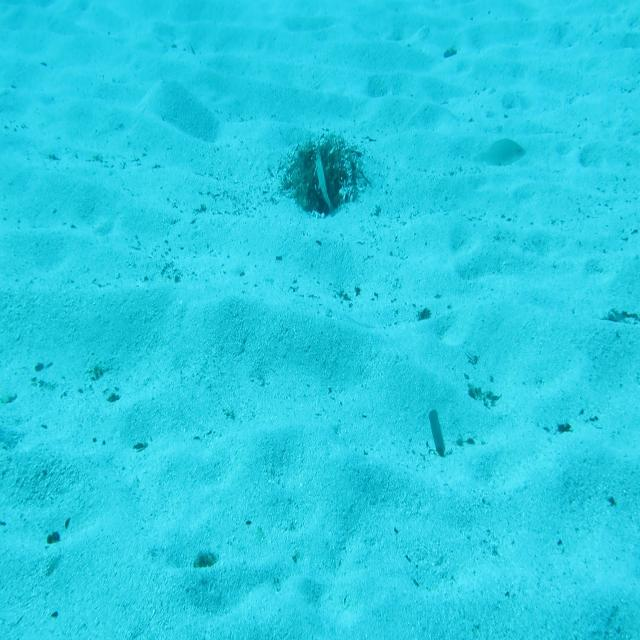FAN: (314, 150, 338, 216)
female: (465, 134, 531, 180)
nest: (280, 137, 368, 220)
vegetation: (426, 411, 445, 464), (589, 310, 639, 330), (192, 549, 220, 572), (443, 44, 460, 60)
